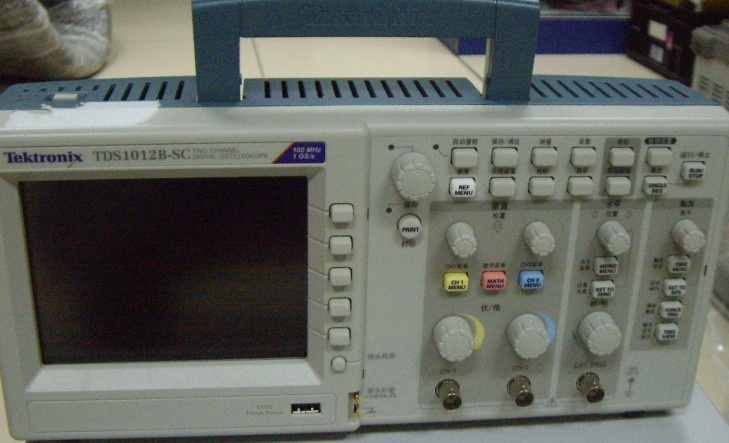Oscilloscope: (1, 8, 717, 443)
